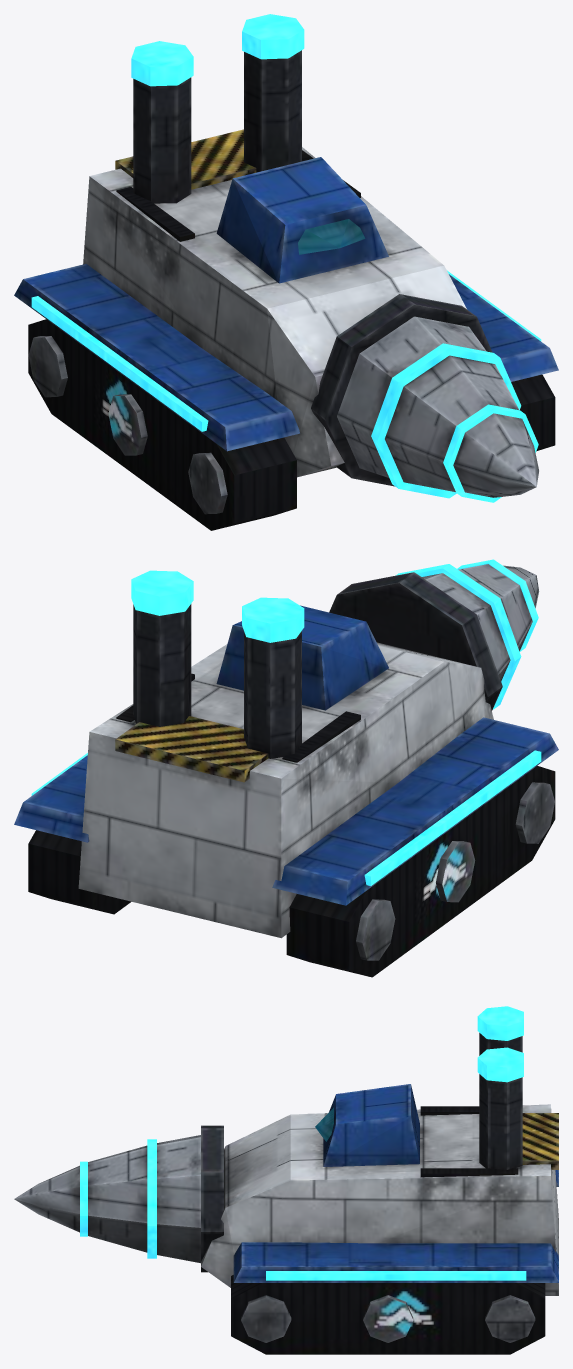
File: s_dreadnought_w.glb
3 renders of one model, top to bottom at view 1: azimuth 30°, elevation 25°; view 2: azimuth 150°, elevation 25°; view 3: azimuth 270°, elevation 25°, orthographic. The views are drawn at different scales.
Visible parts, largest first — view 1: s_dreadnought_w; view 2: s_dreadnought_w; view 3: s_dreadnought_w.
Part boxes in pixels (x1,y1,x2,y2): s_dreadnought_w: [14, 14, 558, 530]; s_dreadnought_w: [14, 559, 558, 977]; s_dreadnought_w: [14, 1006, 558, 1354].
Bounding box in the file's own units: 1.84 × 1.75 × 3.35.
Materials: 1 (1 with a texture image).
